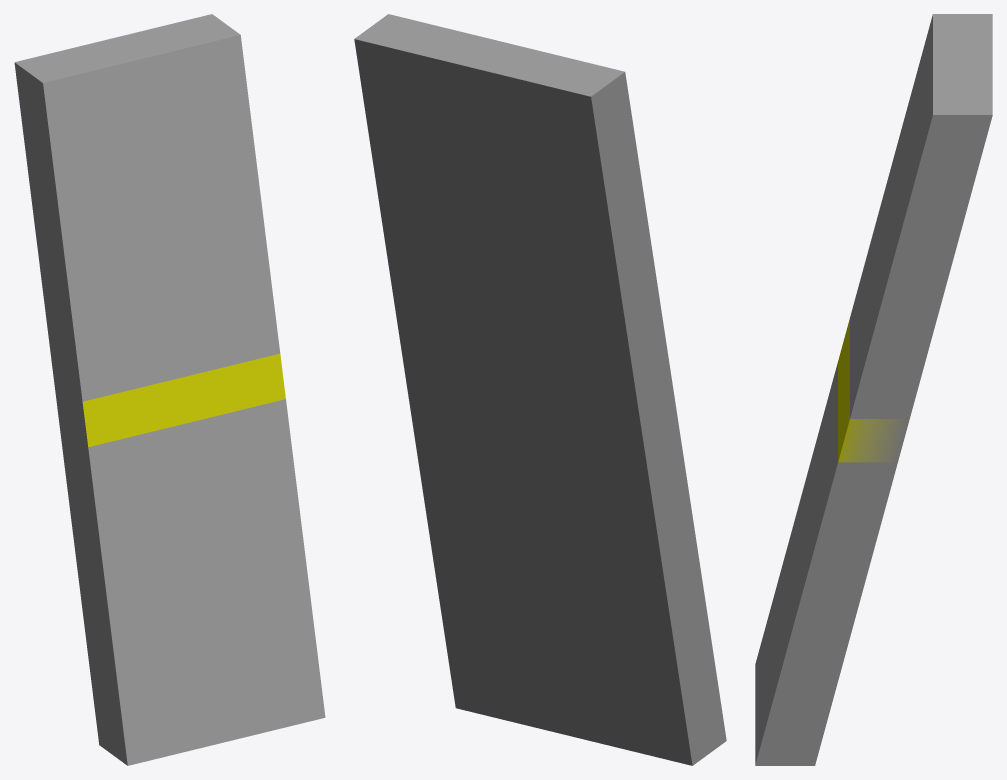
The model's file is Wall_Straight_2.fbx.
The picture shows the model from 3 angles, left to right: view 1: azimuth 30°, elevation 25°; view 2: azimuth 150°, elevation 25°; view 3: azimuth 270°, elevation 25°; orthographic projection. The views are drawn at different scales.
Visible parts, largest first — view 1: Wall_Straight_2; view 2: Wall_Straight_2; view 3: Wall_Straight_2.
Part boxes in pixels (box(x1,y1,x2,y2)): Wall_Straight_2: box(14, 14, 325, 765); Wall_Straight_2: box(354, 14, 726, 765); Wall_Straight_2: box(755, 14, 992, 765).
Size of the model in its own units: 200 by 600 by 198.
